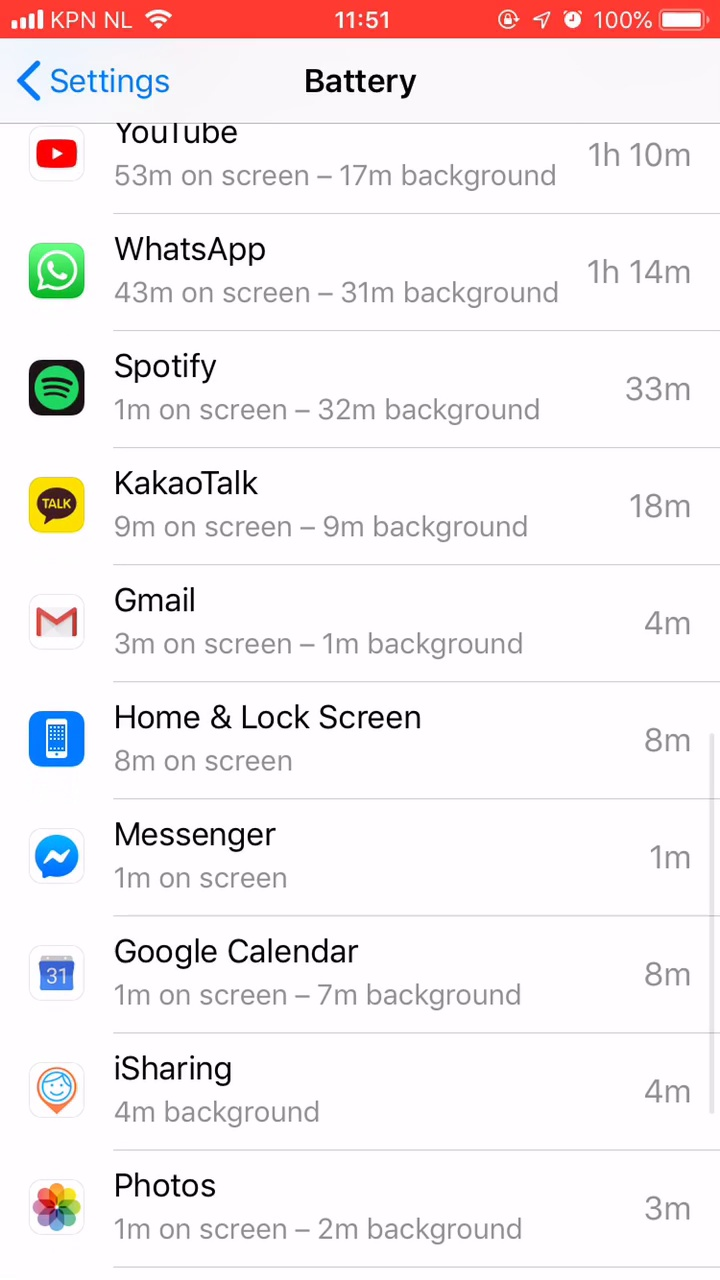app: (24, 227, 700, 315), (20, 343, 696, 431), (22, 466, 698, 554), (25, 569, 701, 657), (23, 697, 699, 785), (28, 814, 704, 902), (19, 931, 695, 1019), (24, 1041, 700, 1129), (26, 1160, 702, 1248)
